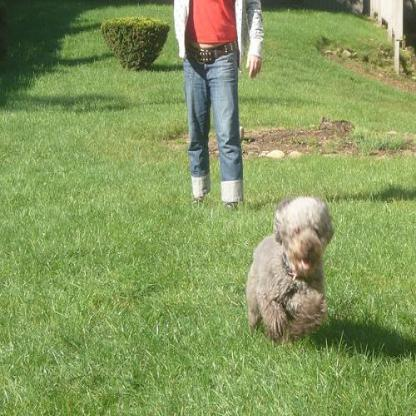miniature_poodle: (244, 192, 334, 344)
